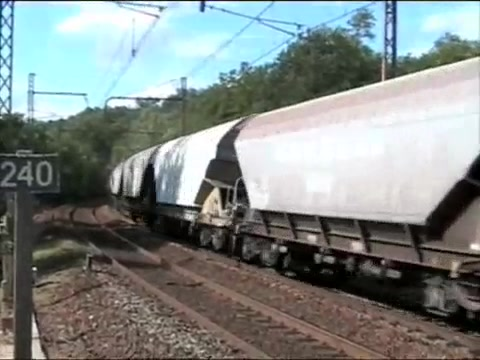train: (107, 58, 480, 329)
